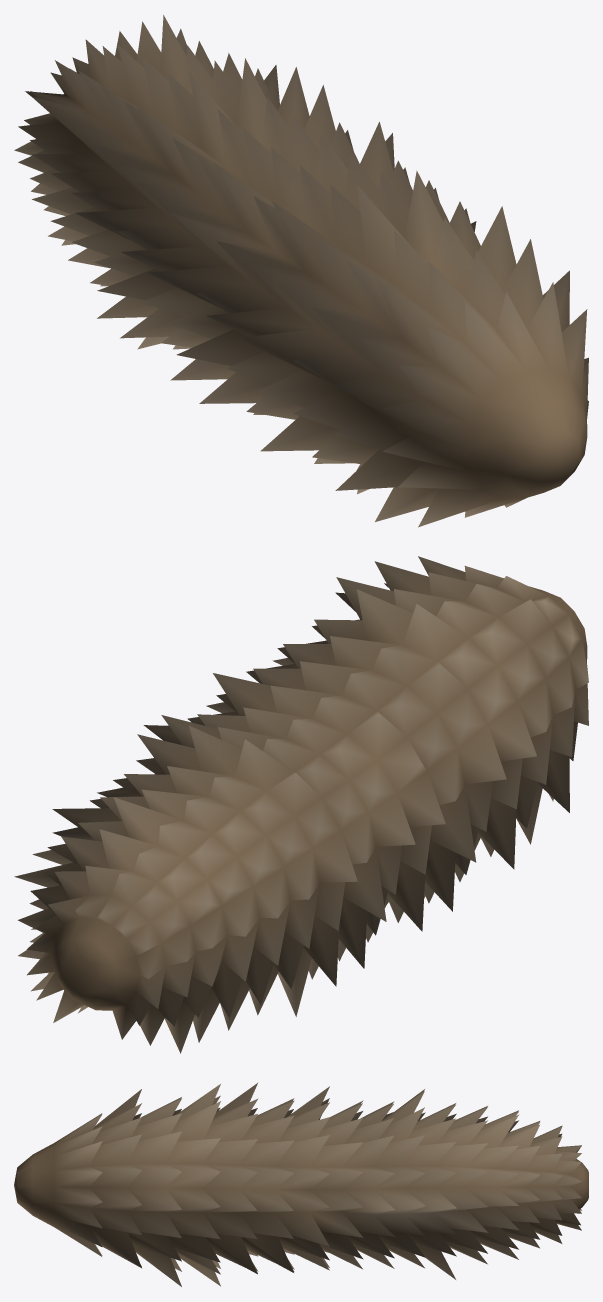
Rendered from microscopic-protists-spiny-ciliate_v1.fbx.
3 views of the same model, one above another, from view 1: azimuth 30°, elevation 25°; view 2: azimuth 150°, elevation 25°; view 3: azimuth 270°, elevation 25° (orthographic). The views are drawn at different scales.
Parts seen in each view (by area): view 1: Spiny Ciliate; view 2: Spiny Ciliate; view 3: Spiny Ciliate.
Part boxes in pixels (x1,y1,x2,y2): Spiny Ciliate: (14, 15, 588, 527); Spiny Ciliate: (14, 556, 588, 1053); Spiny Ciliate: (14, 1083, 588, 1286).
Bounding box in the file's own units: 0.0363 × 0.0357 × 0.1.
